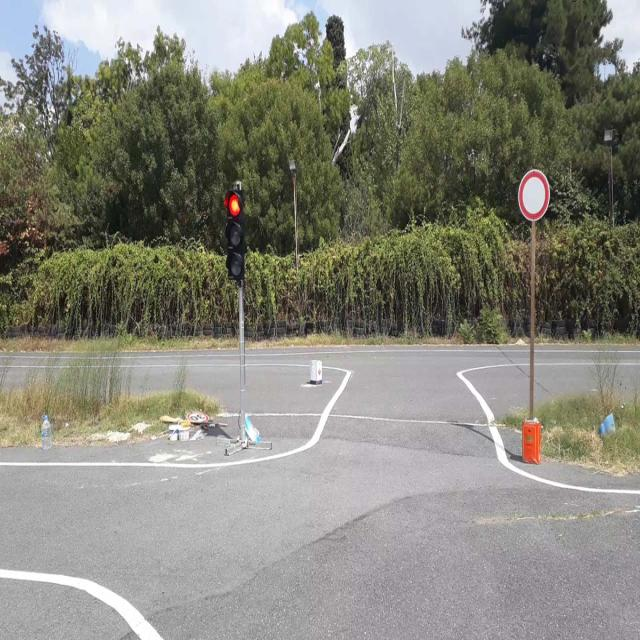kirmizi: (224, 190, 243, 280)
